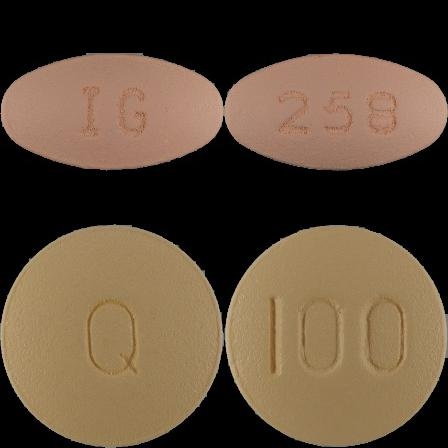50436-6334: (0, 0, 224, 224)
